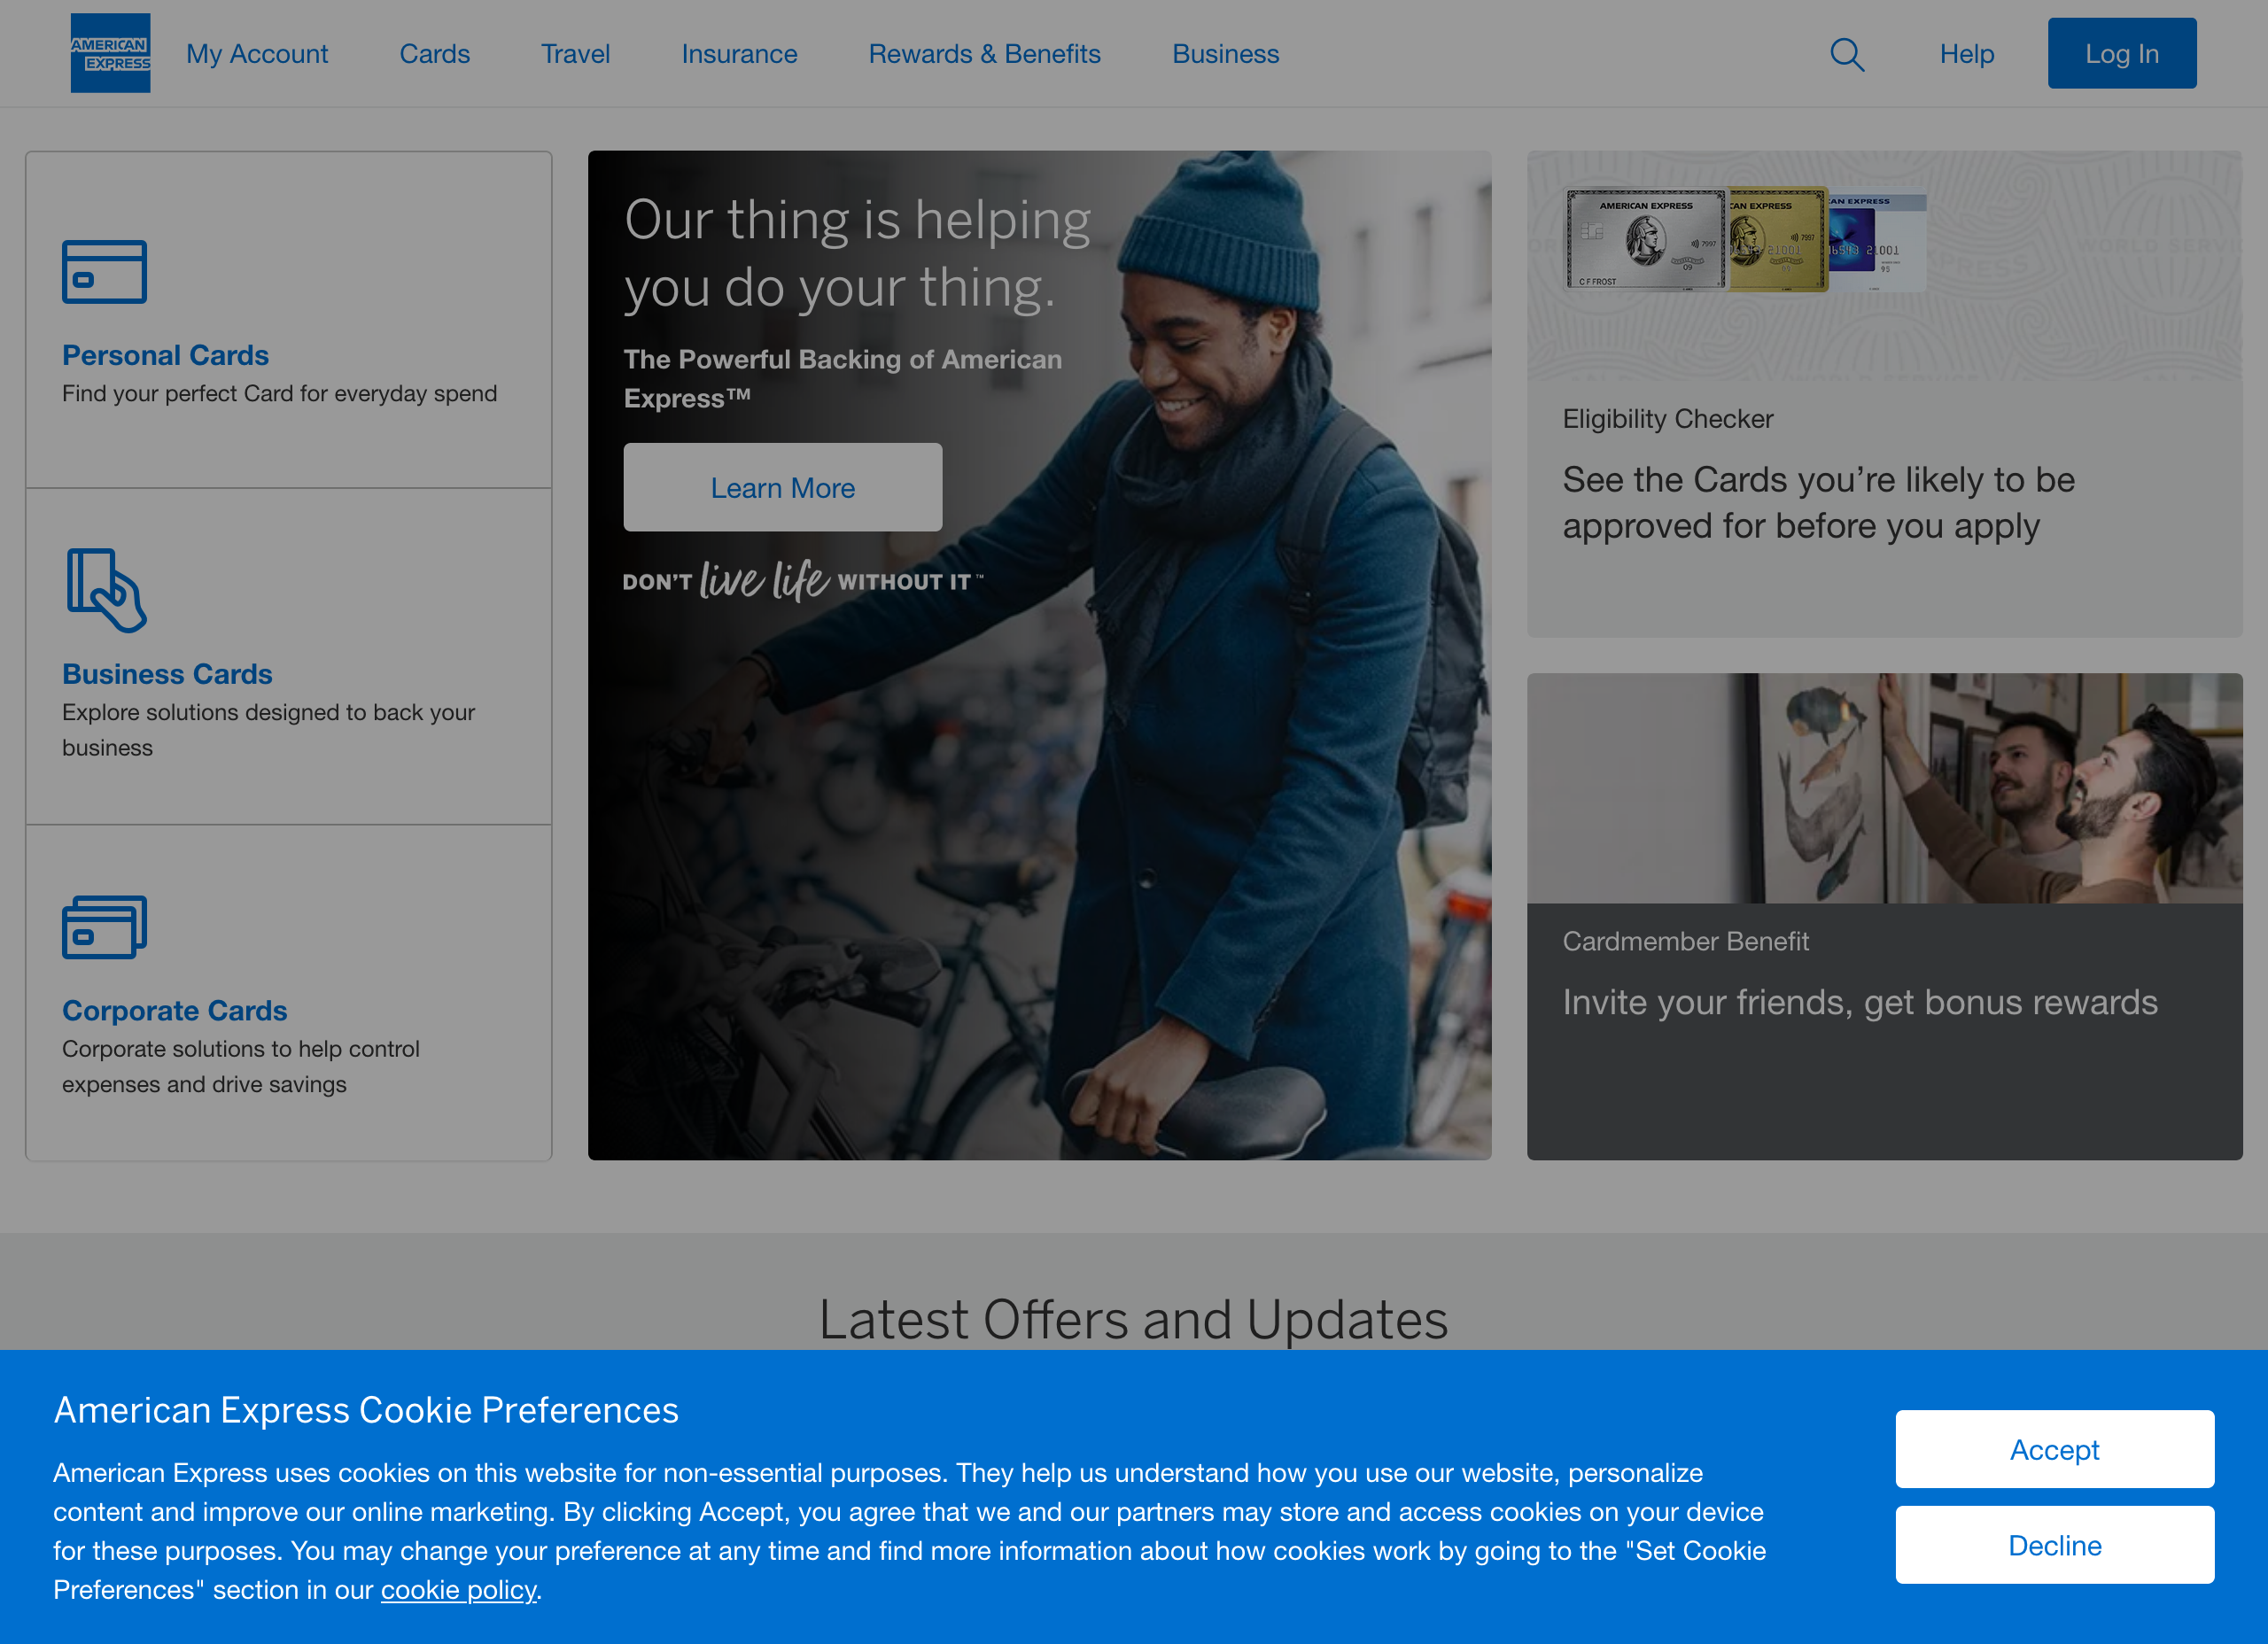Login: (2041, 9, 2210, 97)
